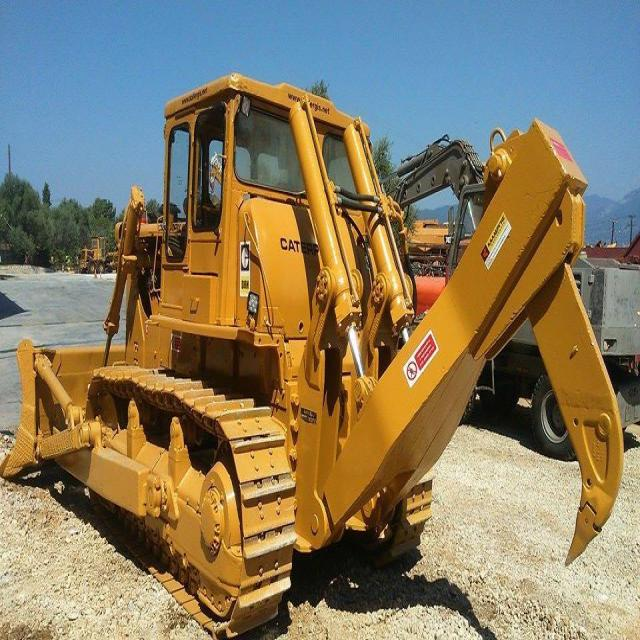Bulldozer: (6, 36, 627, 630)
